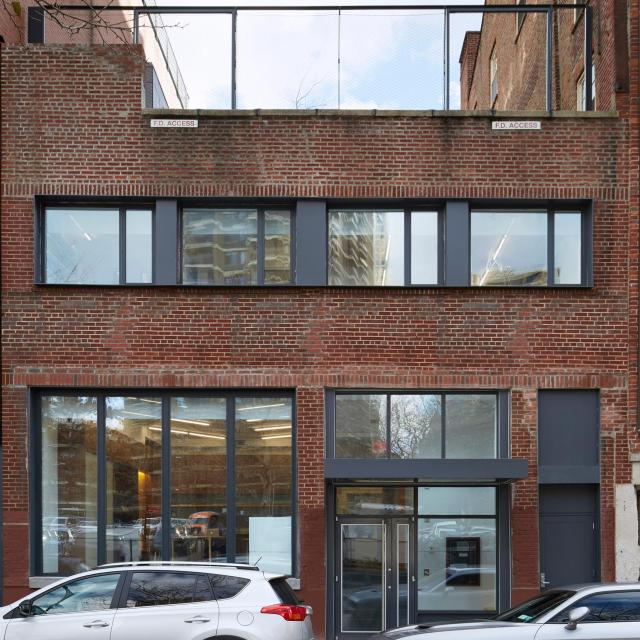door: (335, 514, 419, 640), (539, 488, 599, 600)
window: (30, 386, 294, 576), (334, 482, 502, 617), (332, 388, 504, 457), (327, 206, 441, 283), (46, 205, 154, 285), (473, 209, 585, 286), (184, 206, 296, 282)
